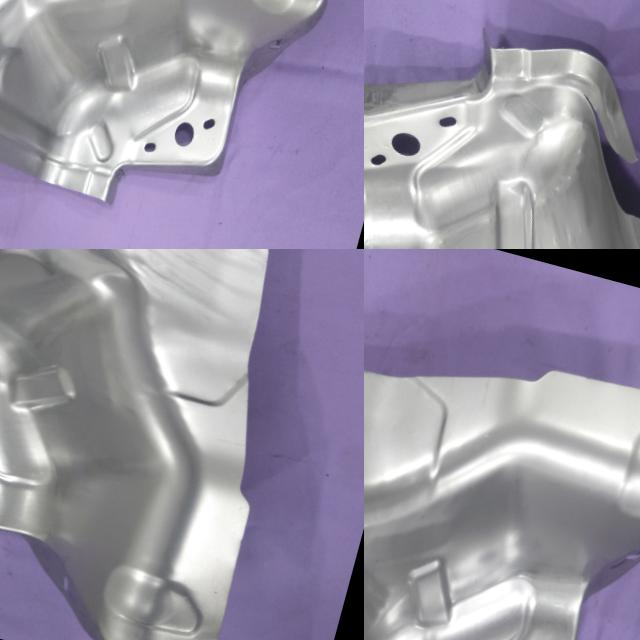Defect: (572, 78, 640, 224)
Healthy: (0, 249, 360, 640), (364, 250, 640, 640), (0, 0, 347, 249)
